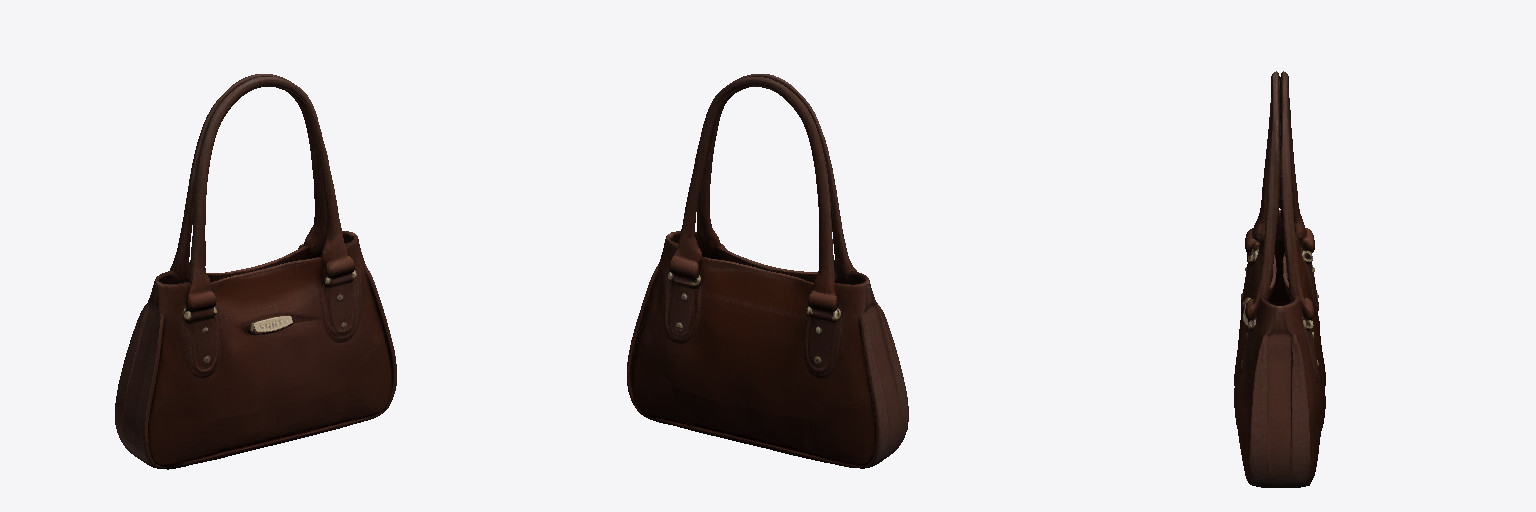
The picture shows the model from 3 angles: view 1: azimuth 30°, elevation 25°; view 2: azimuth 150°, elevation 25°; view 3: azimuth 270°, elevation 25°; orthographic projection.
Visible parts, largest first — view 1: geometry_0.001; view 2: geometry_0.001; view 3: geometry_0.001.
Boxes of the visible parts, <box> form: geometry_0.001: <box>115,74,396,469</box>; geometry_0.001: <box>627,74,908,468</box>; geometry_0.001: <box>1234,71,1325,487</box>.
Bounding box in the file's own units: 7.42 × 9.94 × 2.31.
1 materials, 1 textured.